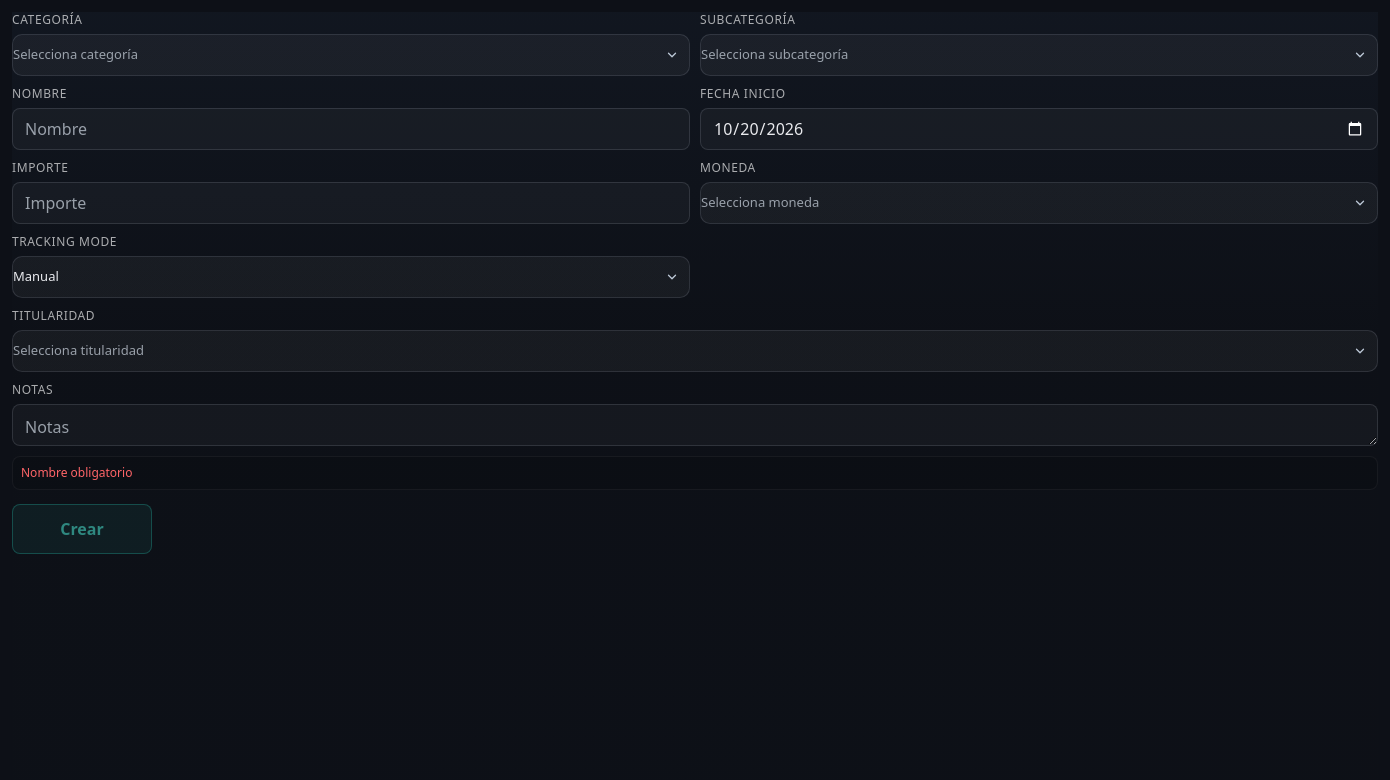
Test: ItemForm (core) › shows degressive residual hint for sports equipment furnishings
Type "Bici" into the field with placeholder "Nombre" at (351, 129), box [12,108,690,150]
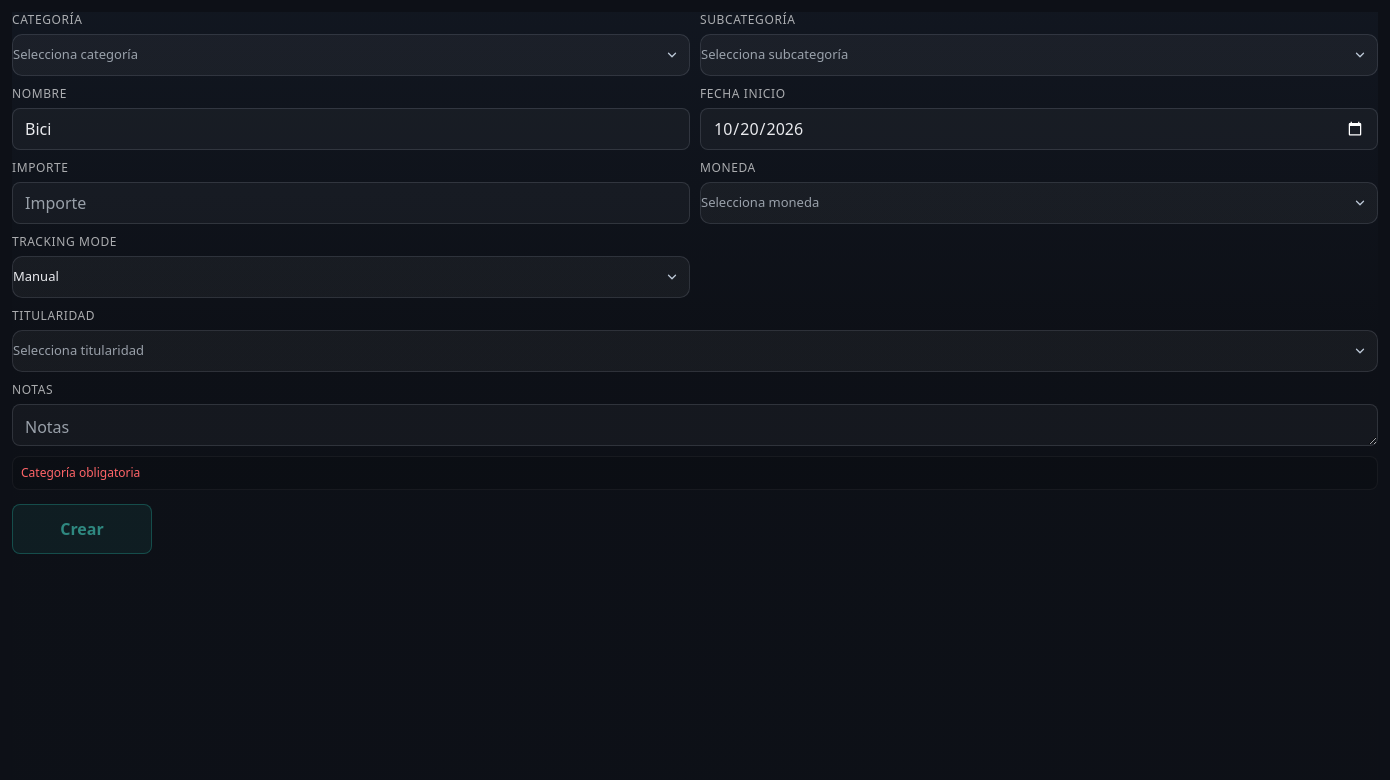
Select "Mobiliario" in the dropdown labelled "Categoría" at (351, 55), box [12,34,690,76]
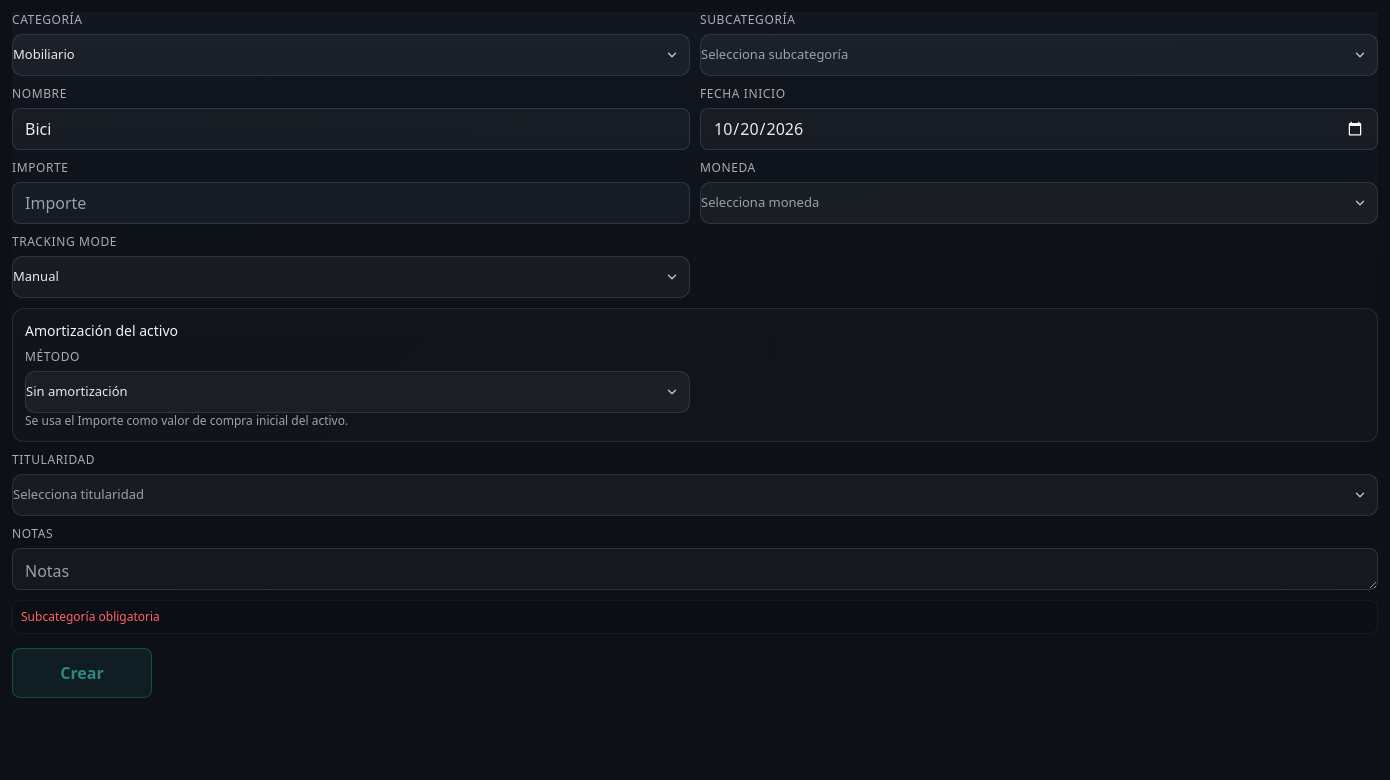
Select "Equipamiento deportivo" in the dropdown labelled "Subcategoría" at (1039, 55), box [700,34,1378,76]
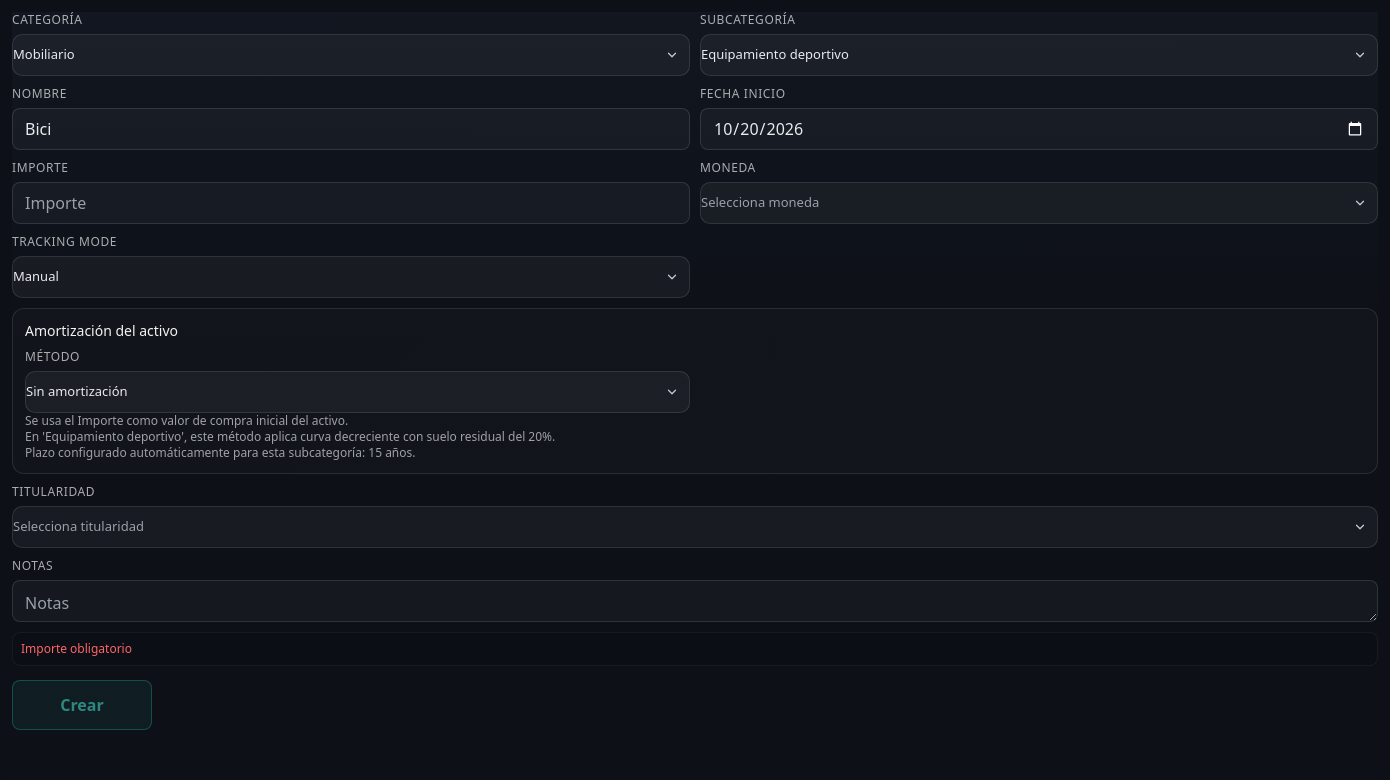
Expected: the text "suelo residual del 20%" is shown, [25,428,555,445]
